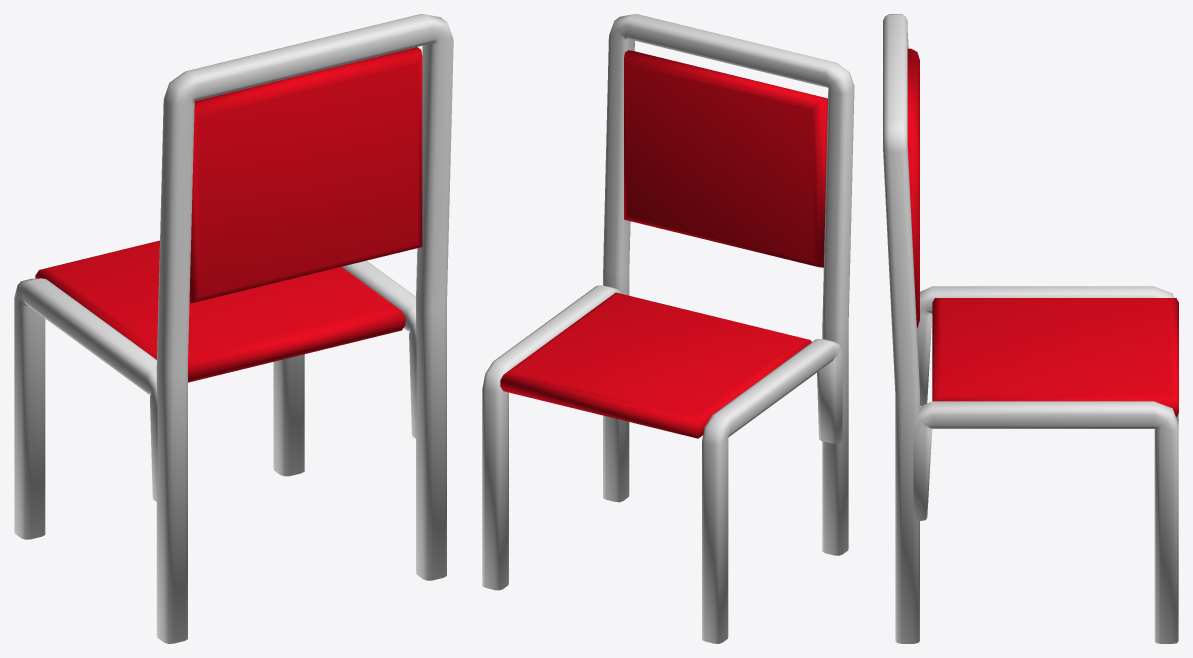
The model's file is Chair.fbx.
The picture shows the model from 3 angles, left to right: view 1: azimuth 30°, elevation 25°; view 2: azimuth 150°, elevation 25°; view 3: azimuth 270°, elevation 25°; orthographic projection. The views are drawn at different scales.
Visible parts, largest first — view 1: Prop.Chair; view 2: Prop.Chair; view 3: Prop.Chair.
Part boxes in pixels (x1,y1,x2,y2): Prop.Chair: (14, 14, 453, 643); Prop.Chair: (482, 14, 854, 643); Prop.Chair: (883, 14, 1178, 643).
Bounding box in the file's own units: 72.65 × 139 × 72.48.
